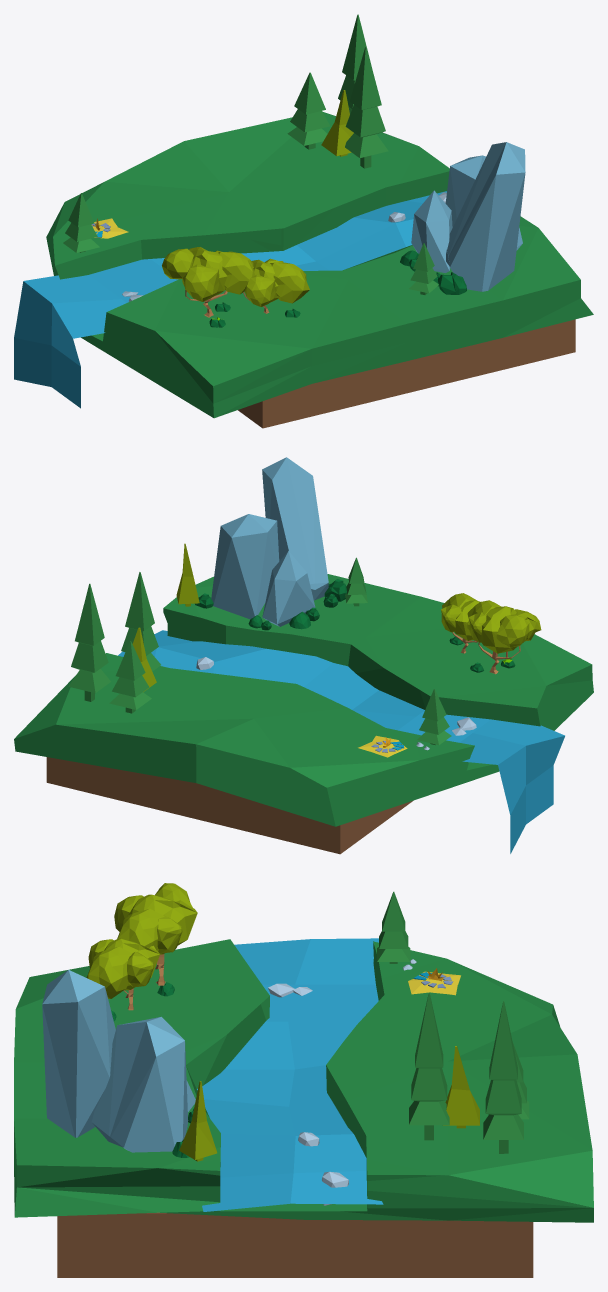
The model's file is paisaje.glb.
The picture shows the model from 3 angles, top to bottom: view 1: azimuth 30°, elevation 25°; view 2: azimuth 150°, elevation 25°; view 3: azimuth 270°, elevation 25°; orthographic projection. The views are drawn at different scales.
Parts seen in each view (by area): view 1: Cube.001_1, Plano_2, Cube_0, object 9, Cubo.001_4, object 10, Cubo.003_6, object 8, Cubo.006_12, Cubo.002_5, object 21, object 15 (+6 smaller); view 2: Cube.001_1, Plano_2, Cube_0, object 8, object 9, Cubo.002_5, object 10, Cubo.003_6, Cubo.001_4, Cubo.006_12, object 17, object 18 (+3 smaller); view 3: Cube.001_1, Plano_2, Cube_0, object 8, object 9, Cubo.002_5, Cubo.001_4, Cubo.006_12, Cubo_3, object 21, Cubo.004_10, object 17 (+5 smaller).
Boxes of the visible parts, x1,y1,x2,y2 form: Cube.001_1: (46, 112, 593, 418); Plano_2: (14, 191, 446, 408); Cube_0: (238, 319, 575, 428); object 9: (446, 142, 525, 291); Cubo.001_4: (345, 47, 388, 168); object 10: (411, 190, 452, 272); Cubo.003_6: (287, 72, 329, 149); object 8: (445, 155, 522, 250); Cubo.006_12: (63, 193, 99, 252); Cubo.002_5: (338, 14, 371, 114); object 21: (270, 262, 309, 303); object 15: (218, 251, 255, 294); Cube.001_1: (14, 574, 593, 826); Plano_2: (118, 630, 564, 853); Cube_0: (46, 757, 413, 854); object 8: (211, 514, 279, 619); object 9: (262, 457, 328, 600); Cubo.002_5: (68, 583, 110, 701); object 10: (262, 551, 315, 626); Cubo.003_6: (109, 641, 151, 713); Cubo.001_4: (121, 572, 160, 671); Cubo.006_12: (417, 689, 451, 745); object 17: (480, 606, 517, 653); object 18: (496, 614, 529, 647); Cube.001_1: (14, 939, 593, 1222); Plano_2: (197, 938, 383, 1211); Cube_0: (57, 1212, 533, 1277); object 8: (91, 1016, 188, 1152); object 9: (42, 969, 115, 1137); Cubo.002_5: (483, 1001, 523, 1153); Cubo.001_4: (409, 993, 449, 1140); Cubo.006_12: (377, 891, 410, 963); Cubo_3: (443, 1046, 479, 1128); object 21: (86, 946, 132, 998); Cubo.004_10: (179, 1081, 217, 1161); object 17: (127, 894, 197, 954).
Bounding box in the file's own units: 7.31 × 3.8 × 6.82.
